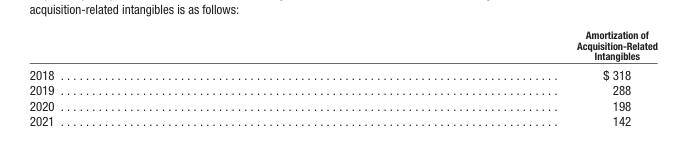table: (28, 28, 656, 127)
table column: (314, 28, 656, 127), (28, 28, 314, 127)
table column header: (28, 28, 656, 63)
table row: (28, 28, 656, 63), (28, 63, 656, 81), (28, 81, 656, 97), (28, 97, 656, 112), (28, 112, 656, 127)
